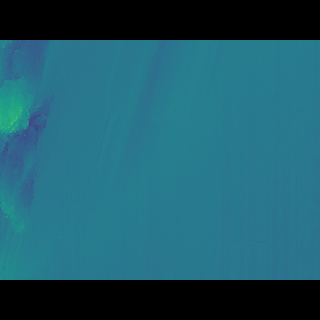Loch: (0, 69, 58, 227)
